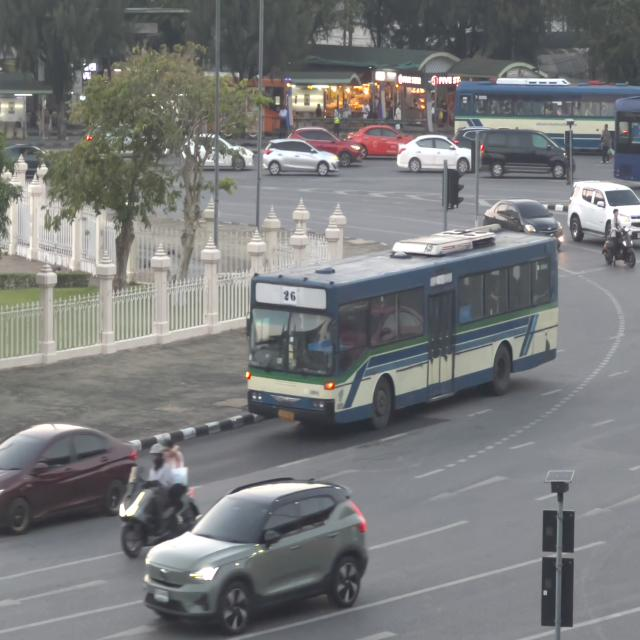BMTA-bus: (245, 228, 560, 431), (456, 78, 640, 156)
Bus-Line-Number: (280, 288, 298, 304)
Destination-Sign-Normal: (304, 351, 326, 374)
TSB-Bus: (615, 97, 640, 186)
